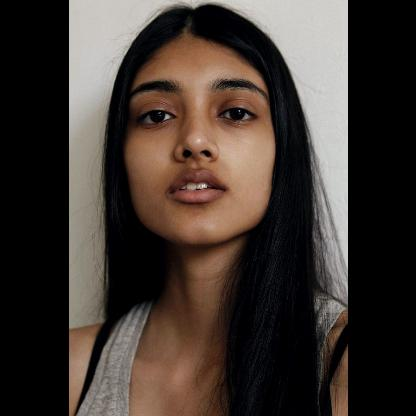Female: (121, 36, 275, 244)
